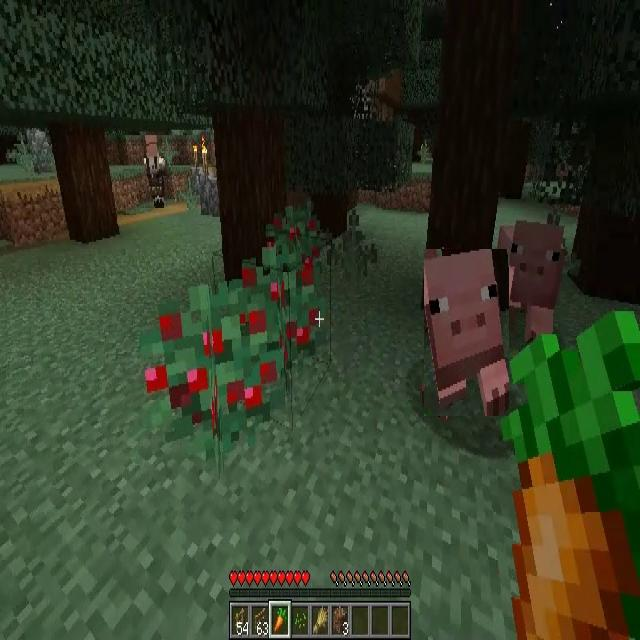people: (143, 134, 165, 207)
pig: (424, 249, 509, 416), (504, 228, 568, 349)
